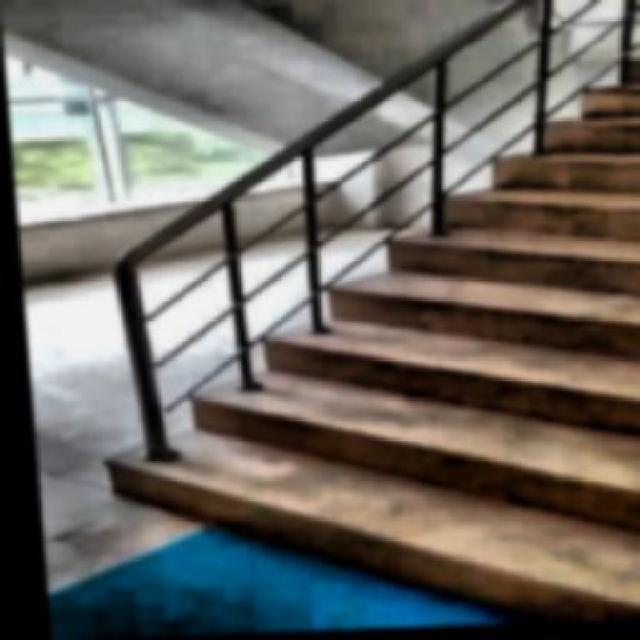stair: (57, 31, 638, 637)
